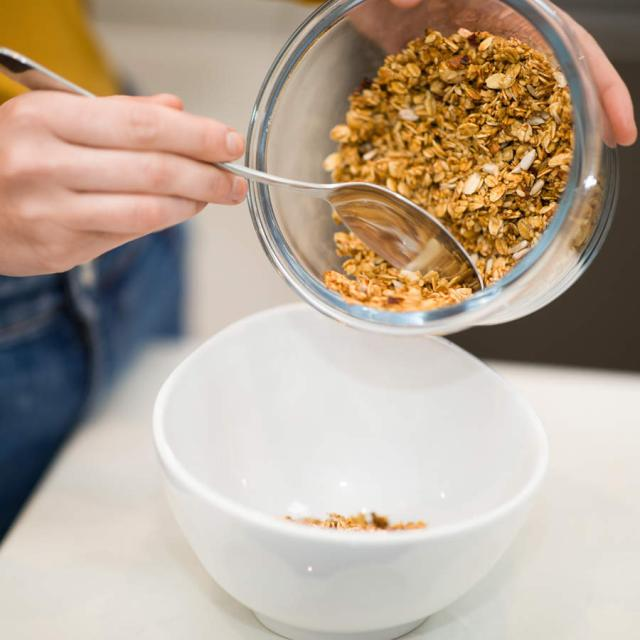avena: (254, 18, 606, 327)
